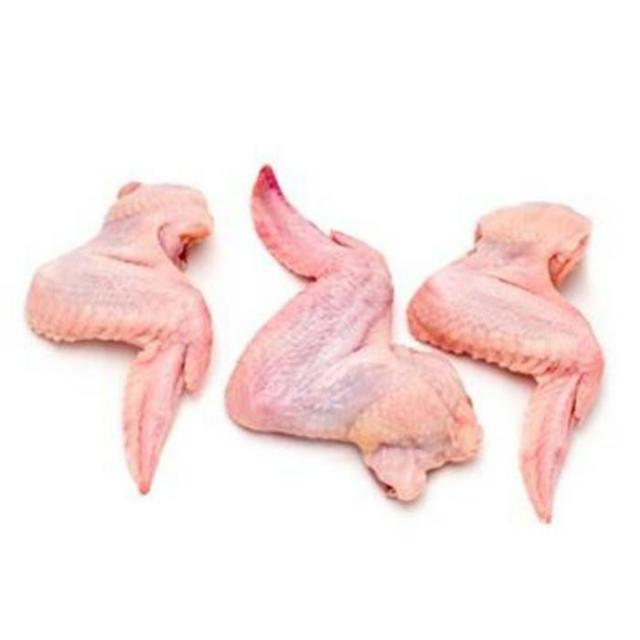chicken: (223, 166, 484, 506), (410, 201, 600, 521), (27, 182, 213, 496)
